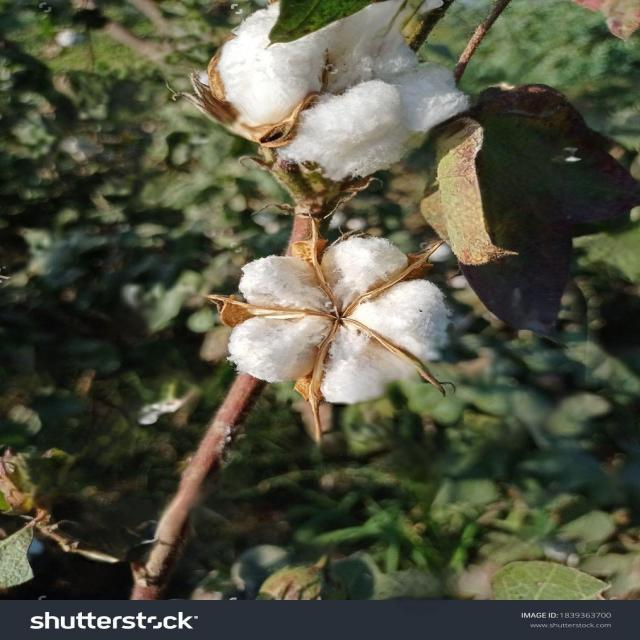Leaf: (175, 0, 488, 194), (196, 237, 485, 400)
